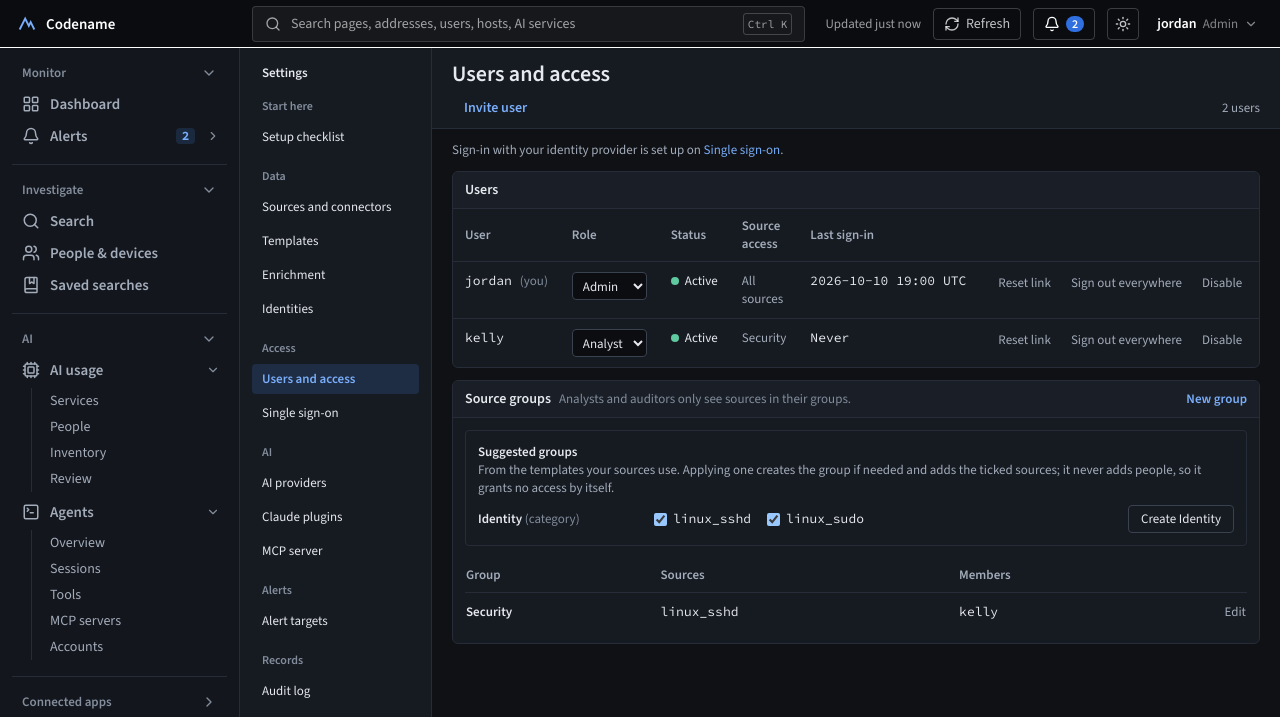
Scenario: Users and access › asks before disabling and shows the last-admin refusal inline
The image size is (1280, 717).
What coordinates should you click on to do the following:
click the button with aria-label "Disable jordan"
I would click on:
 (1222, 283)
Its box is [1194, 272, 1250, 294].
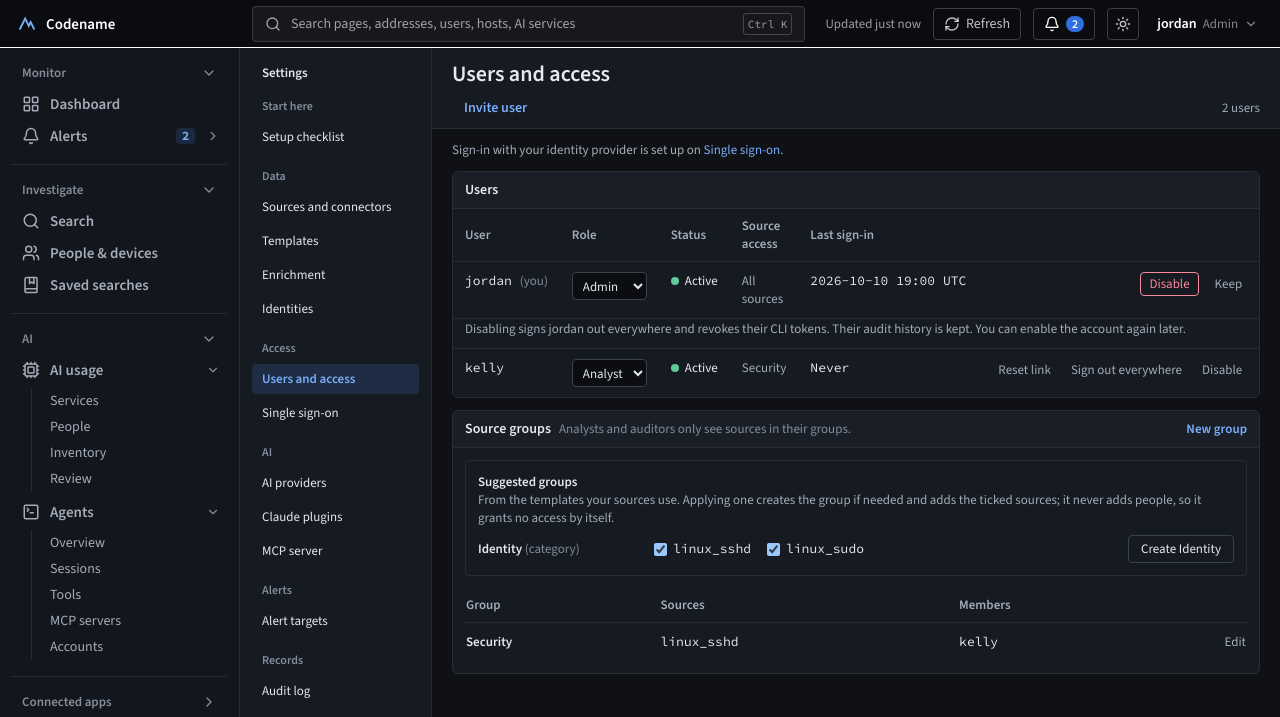
Expected: the text "signs jordan out everywhere" is shown, [465, 320, 1186, 337]
What coordinates should you click on to do the following:
click the button "Disable" in the row of "(you)"
I would click on:
 (1170, 284)
Its box is [1140, 272, 1199, 296].
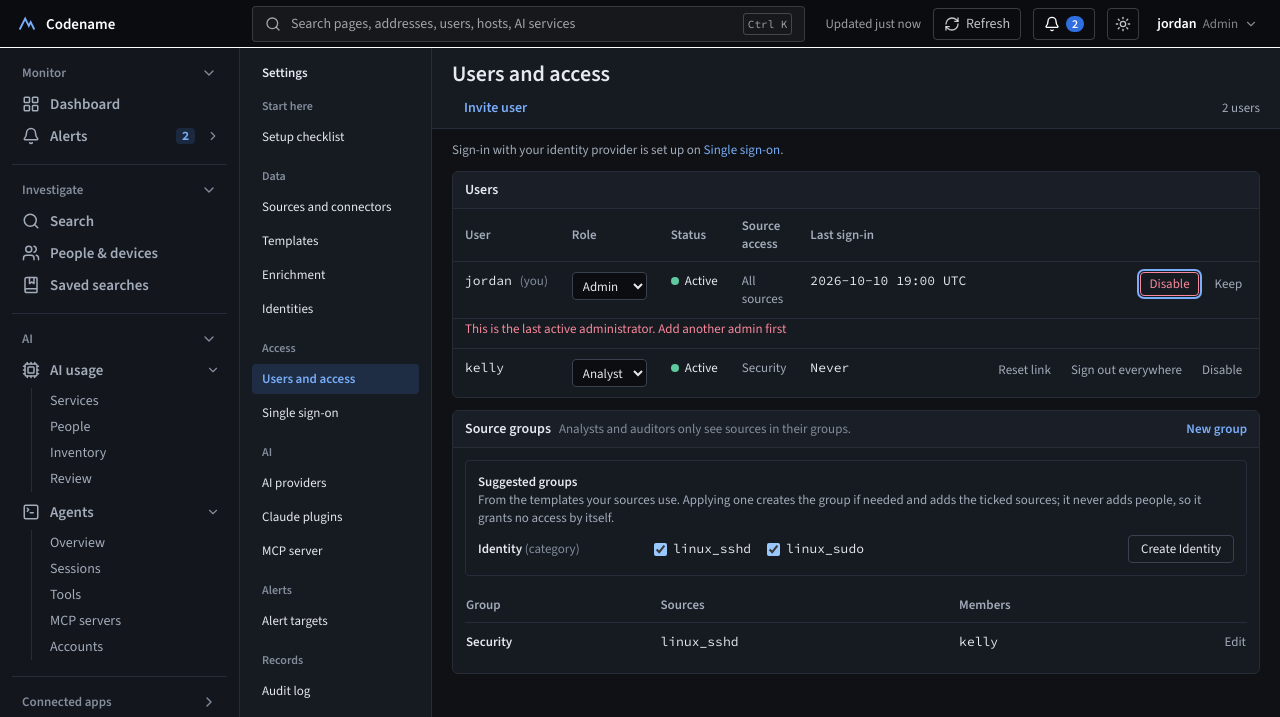
Expected: the message shows "last active administrator", [465, 320, 786, 337]
